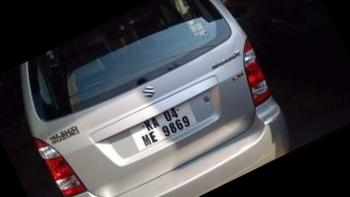plate: (102, 85, 216, 171)
